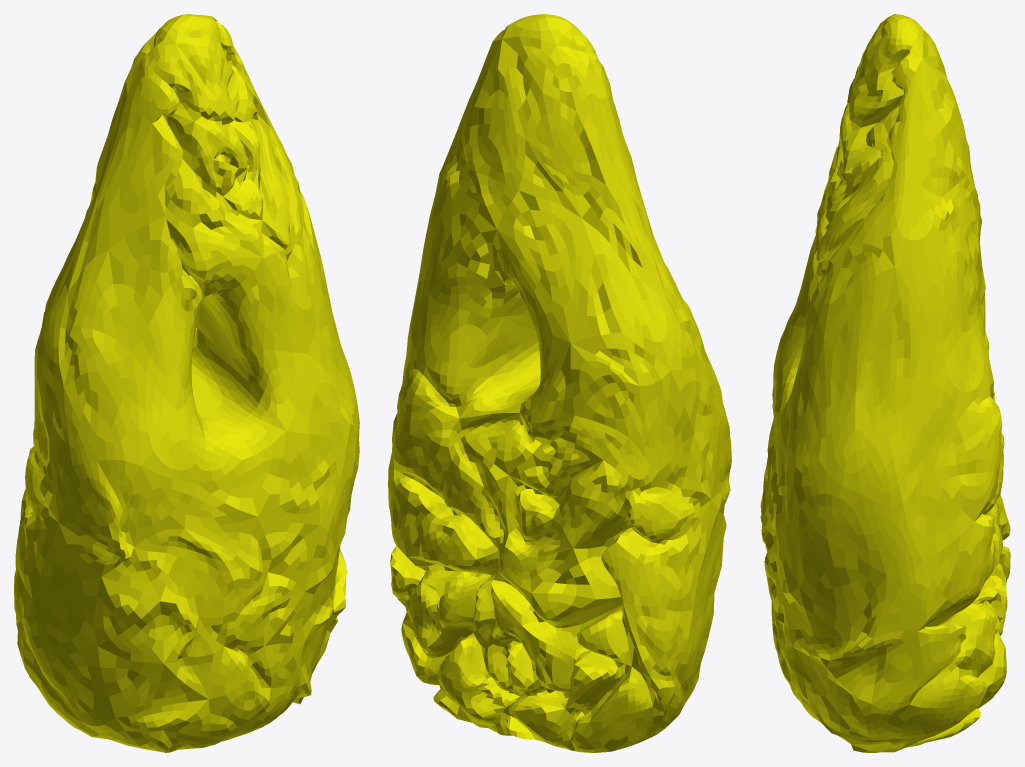
File: MRock@Diamond Rotation.fbx
3 views of the same model, side by side, from view 1: azimuth 30°, elevation 25°; view 2: azimuth 150°, elevation 25°; view 3: azimuth 270°, elevation 25° (orthographic).
Visible parts, largest first — view 1: MRock_LOD0; view 2: MRock_LOD0; view 3: MRock_LOD0.
Boxes of the visible parts, x1=… form: MRock_LOD0: x1=14, y1=14, x2=359, y2=752; MRock_LOD0: x1=388, y1=14, x2=731, y2=752; MRock_LOD0: x1=760, y1=14, x2=1010, y2=752.
Size of what is drawn, in the model's own units: 1.6 by 3.61 by 1.18.
